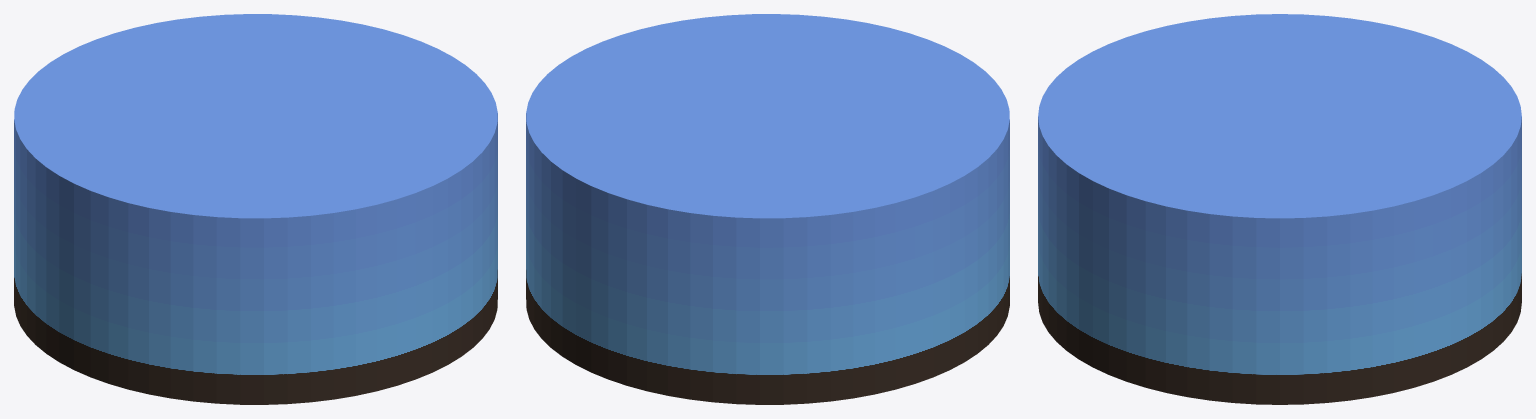
File: Sky.glb
3 renders of one model, left to right at view 1: azimuth 30°, elevation 25°; view 2: azimuth 150°, elevation 25°; view 3: azimuth 270°, elevation 25°, orthographic.
Visible parts, largest first — view 1: Sky; view 2: Sky; view 3: Sky.
Part boxes in pixels (x1,y1,x2,y2): Sky: (14,14,497,404); Sky: (526,14,1009,404); Sky: (1038,14,1521,404).
Bounding box in the file's own units: 13.32 × 5.67 × 13.32.
1 material, 1 textured.
